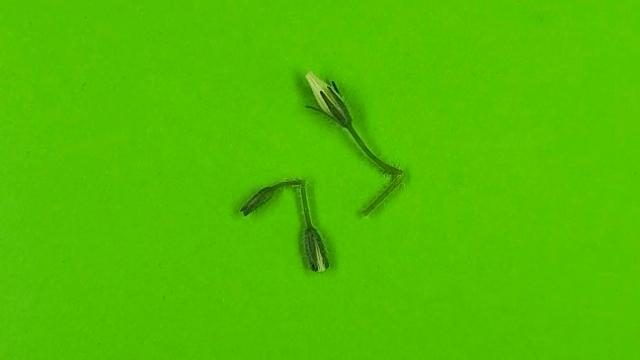Flower Bud: (304, 70, 351, 127), (239, 183, 283, 216), (301, 228, 330, 273)
